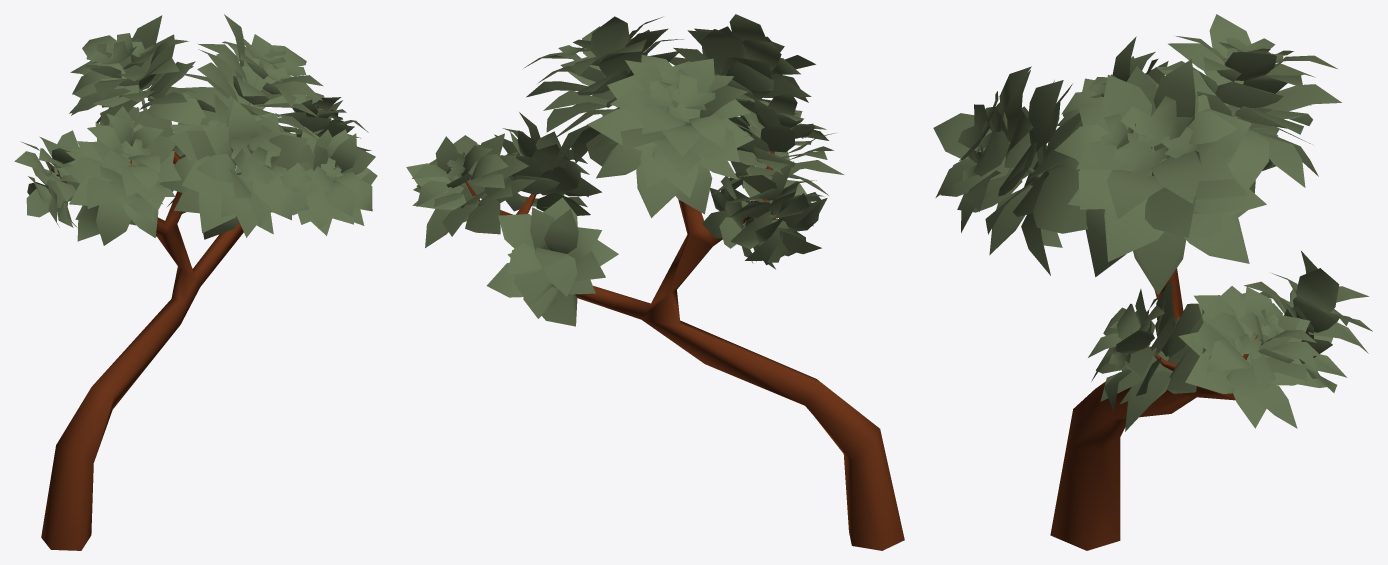
The model's file is Albero_2.fbx.
The picture shows the model from 3 angles, left to right: view 1: azimuth 30°, elevation 25°; view 2: azimuth 150°, elevation 25°; view 3: azimuth 270°, elevation 25°; orthographic projection. The views are drawn at different scales.
Visible parts, largest first — view 1: Albero.002; view 2: Albero.002; view 3: Albero.002.
Boxes of the visible parts, <box> form: Albero.002: <box>14,14,377,550</box>; Albero.002: <box>406,14,904,550</box>; Albero.002: <box>933,14,1372,550</box>.
Bounding box in the file's own units: 4006 × 4577 × 3023.
